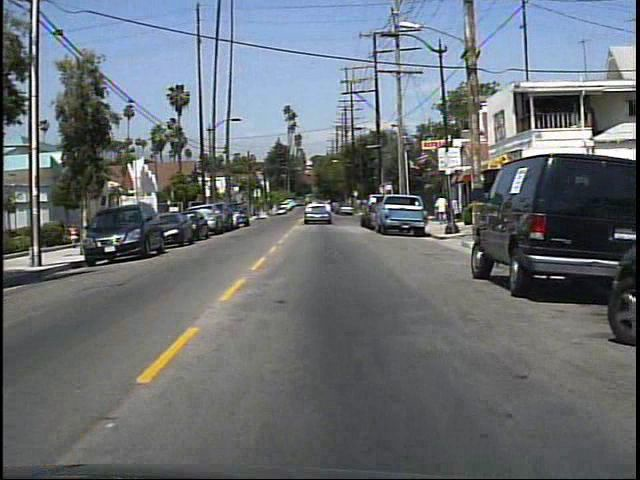person: (434, 193, 449, 228), (69, 219, 85, 247)
